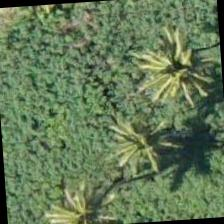Kelapa_Sawit: (96, 96, 192, 192), (144, 15, 222, 110), (31, 168, 127, 223)
